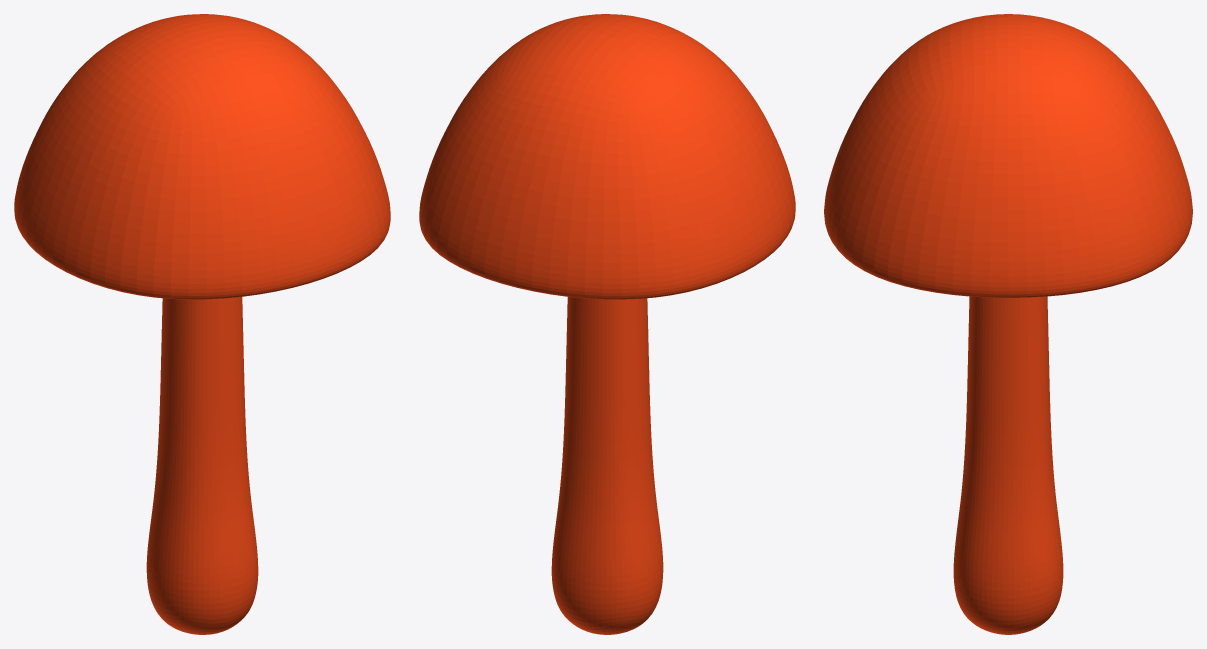
Rendered from mushroom.glb.
3 renders of one model, left to right at view 1: azimuth 30°, elevation 25°; view 2: azimuth 150°, elevation 25°; view 3: azimuth 270°, elevation 25°, orthographic.
Parts seen in each view (by area): view 1: Cube; view 2: Cube; view 3: Cube.
Boxes of the visible parts, bbox=[...] form: Cube: bbox=[14, 14, 390, 634]; Cube: bbox=[419, 14, 795, 634]; Cube: bbox=[824, 14, 1192, 634].
Size of the model in its own units: 3.08 by 5.52 by 3.08.
